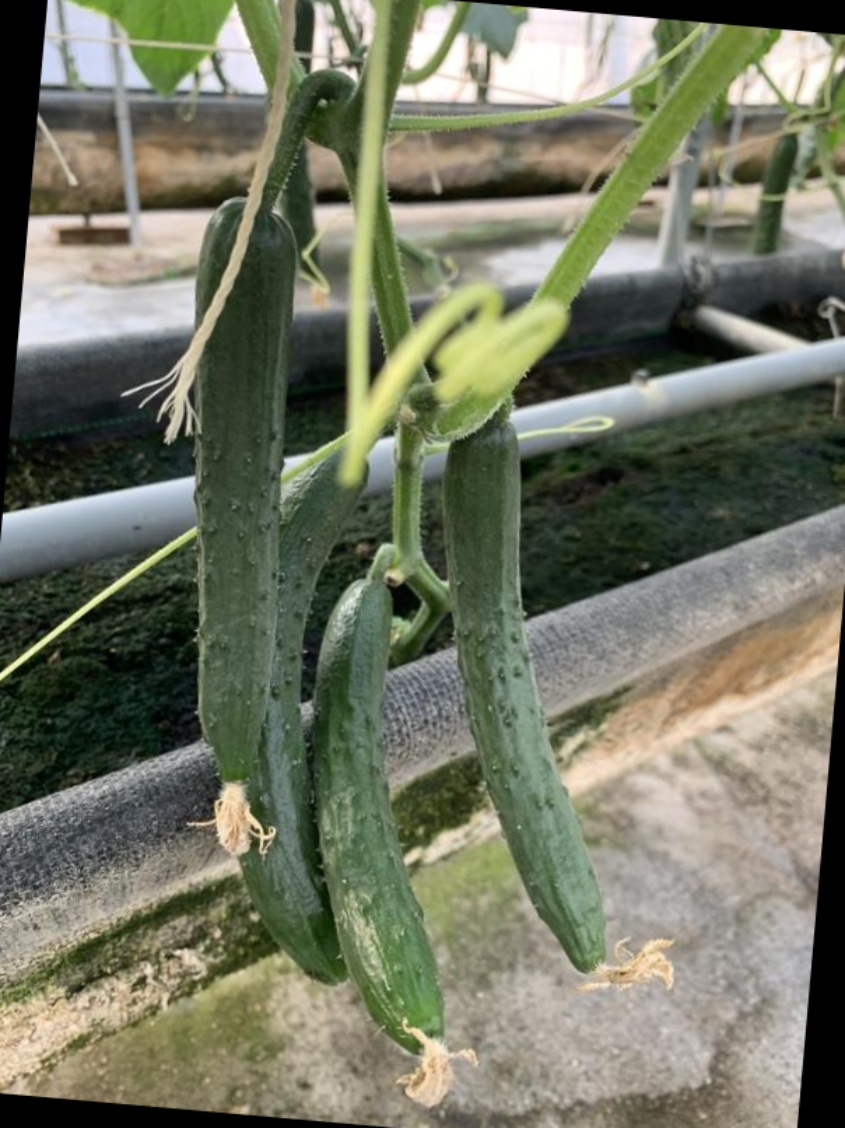mature: (435, 422, 618, 978), (182, 188, 306, 796)
